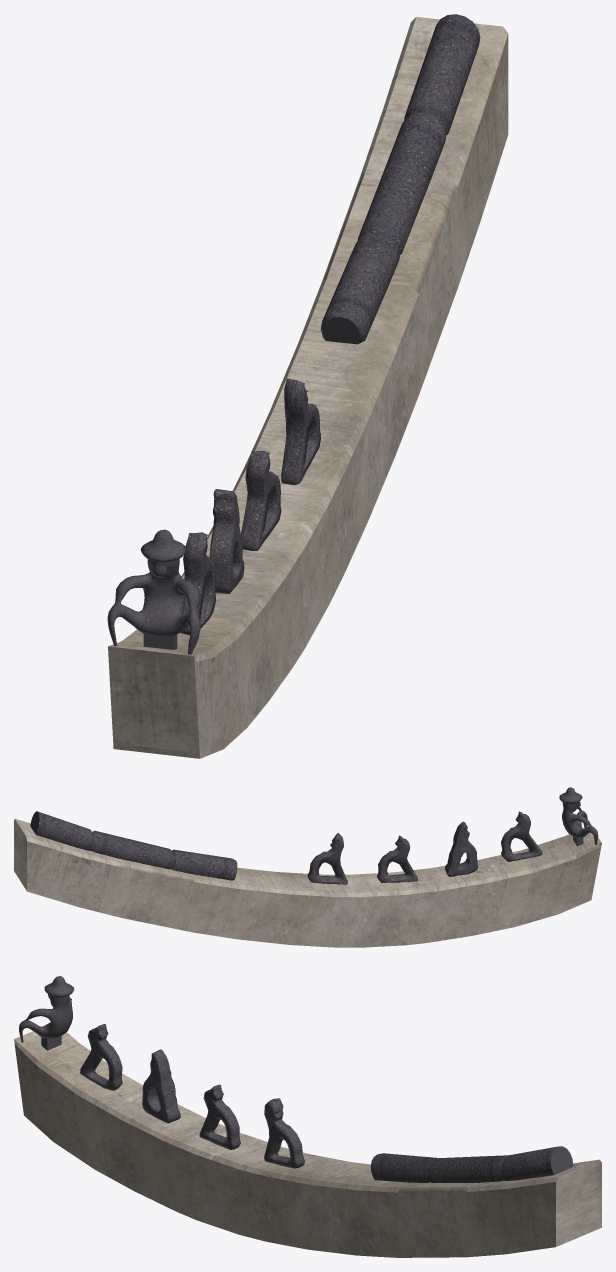
Rendered from SM_R_BeamRoof_9.fbx.
3 renders of one model, top to bottom at view 1: azimuth 30°, elevation 25°; view 2: azimuth 150°, elevation 25°; view 3: azimuth 270°, elevation 25°, orthographic. The views are drawn at different scales.
Visible parts, largest first — view 1: SM_R_BeamRoof_9; view 2: SM_R_BeamRoof_9; view 3: SM_R_BeamRoof_9.
Boxes of the visible parts, <box> form: SM_R_BeamRoof_9: <box>107,14,508,758</box>; SM_R_BeamRoof_9: <box>14,787,601,947</box>; SM_R_BeamRoof_9: <box>14,976,601,1257</box>.
Size of the model in its own units: 409 by 409 by 161.
Materials: 2 (2 with a texture image).
